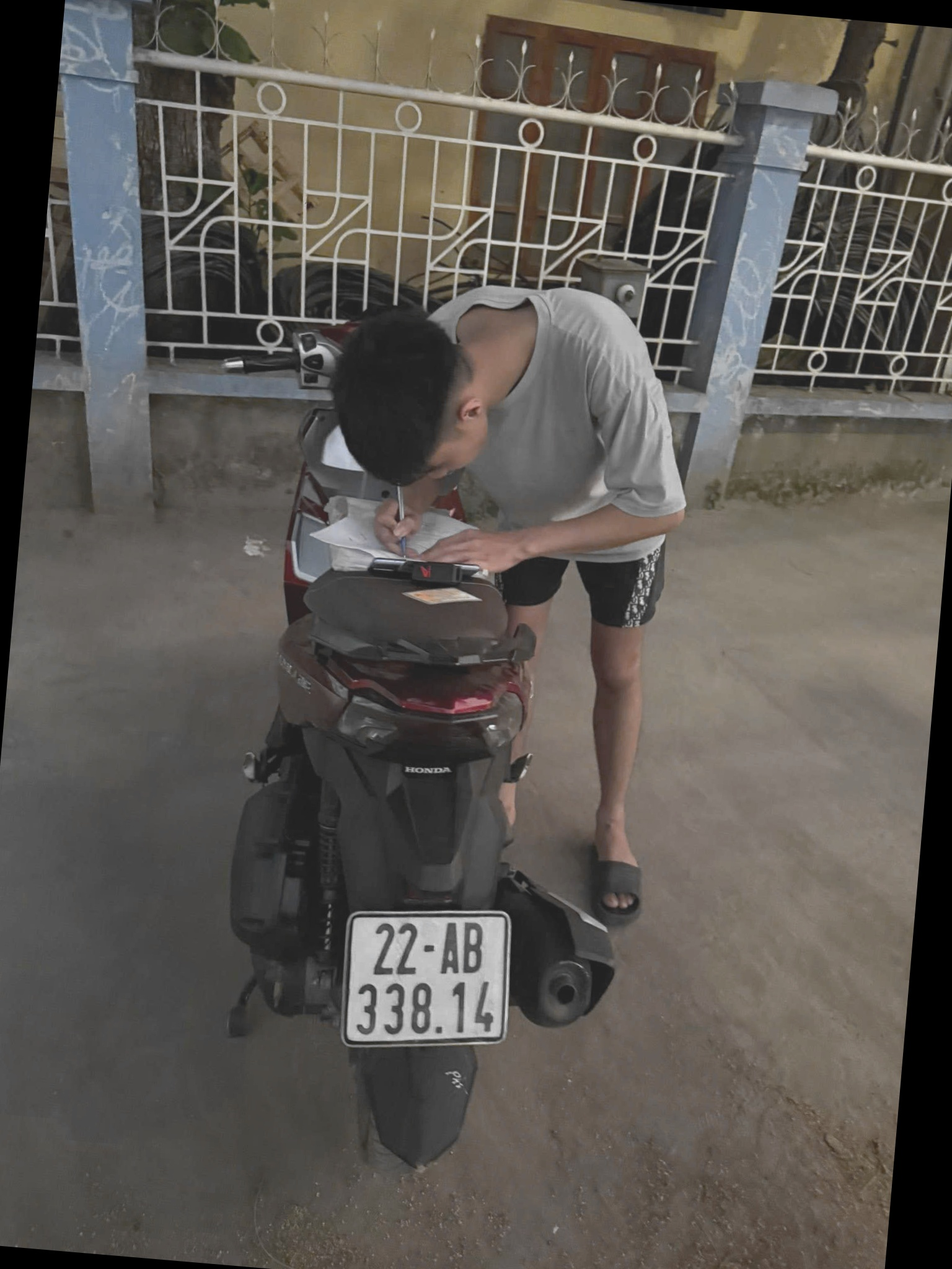Bien-so: (392, 906, 580, 1049)
